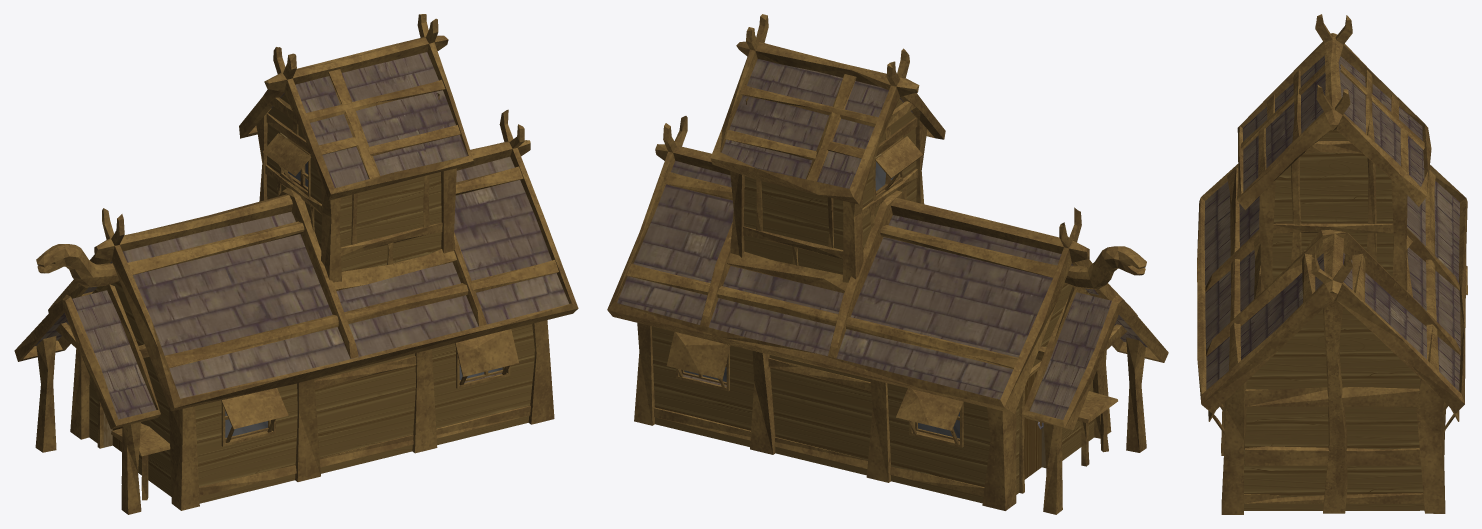
Rendered from House_five.fbx.
3 views of the same model, side by side, from view 1: azimuth 30°, elevation 25°; view 2: azimuth 150°, elevation 25°; view 3: azimuth 270°, elevation 25° (orthographic). The views are drawn at different scales.
Parts seen in each view (by area): view 1: Frame_A, балки.031; view 2: Frame_A, балки.031; view 3: балки.031, Frame_A.
Part boxes in pixels (x1=…): Frame_A: x1=35, y1=52, x2=569, y2=503; балки.031: x1=14, y1=14, x2=578, y2=514; Frame_A: x1=617, y1=59, x2=1147, y2=503; балки.031: x1=607, y1=14, x2=1168, y2=514; балки.031: x1=1197, y1=14, x2=1467, y2=514; Frame_A: x1=1204, y1=55, x2=1460, y2=510.
Bounding box in the file's own units: 1569 × 1161 × 725.
